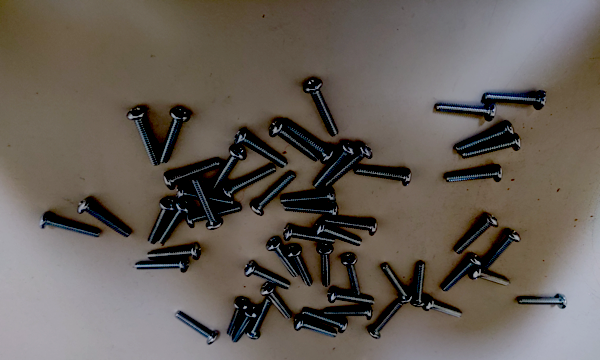longscrew: (122, 106, 161, 167), (240, 123, 288, 170), (479, 224, 523, 273), (281, 117, 331, 159), (79, 199, 131, 239), (308, 142, 354, 187), (305, 76, 337, 139), (324, 145, 373, 186), (253, 173, 298, 217), (452, 213, 495, 259), (192, 177, 229, 230), (40, 212, 103, 243), (454, 122, 514, 154), (164, 159, 219, 193), (220, 166, 276, 199), (273, 124, 317, 165), (157, 106, 189, 162), (209, 146, 246, 193), (441, 254, 482, 293), (187, 205, 244, 233), (174, 312, 223, 344), (442, 163, 506, 187), (460, 134, 524, 158), (433, 98, 497, 122), (486, 86, 550, 110), (157, 202, 191, 246), (352, 166, 412, 190), (265, 238, 298, 281), (283, 245, 316, 288), (146, 196, 174, 245), (245, 262, 291, 291), (263, 282, 291, 329), (176, 186, 238, 207), (365, 304, 400, 341), (382, 265, 411, 307), (316, 222, 361, 247), (324, 214, 380, 234), (225, 296, 250, 340), (234, 305, 259, 349), (248, 300, 273, 344), (329, 288, 372, 312), (284, 225, 333, 246), (134, 259, 188, 278), (313, 244, 336, 288), (344, 254, 367, 298), (304, 309, 346, 333), (296, 318, 339, 341), (279, 190, 336, 207), (330, 305, 372, 328), (150, 246, 203, 263), (517, 295, 567, 312), (423, 299, 467, 318), (282, 204, 342, 217), (467, 273, 518, 285), (418, 257, 425, 306)
